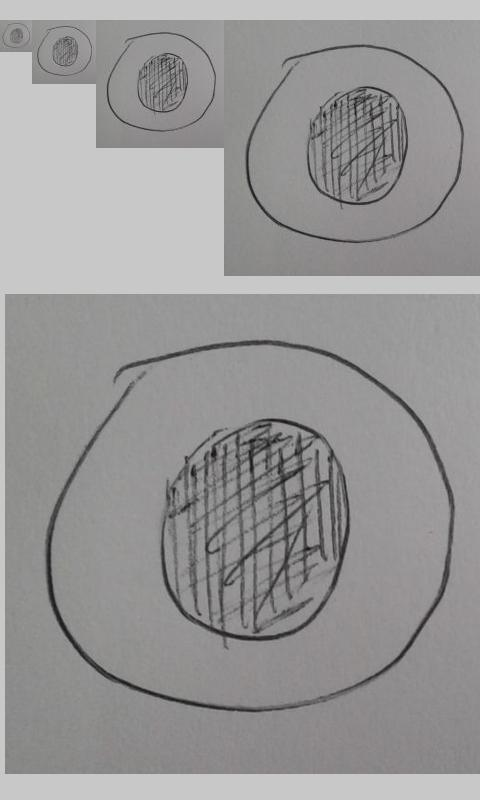radio_button: (40, 334, 458, 716), (245, 43, 465, 245), (105, 31, 218, 133), (36, 25, 93, 77), (1, 22, 31, 49)
